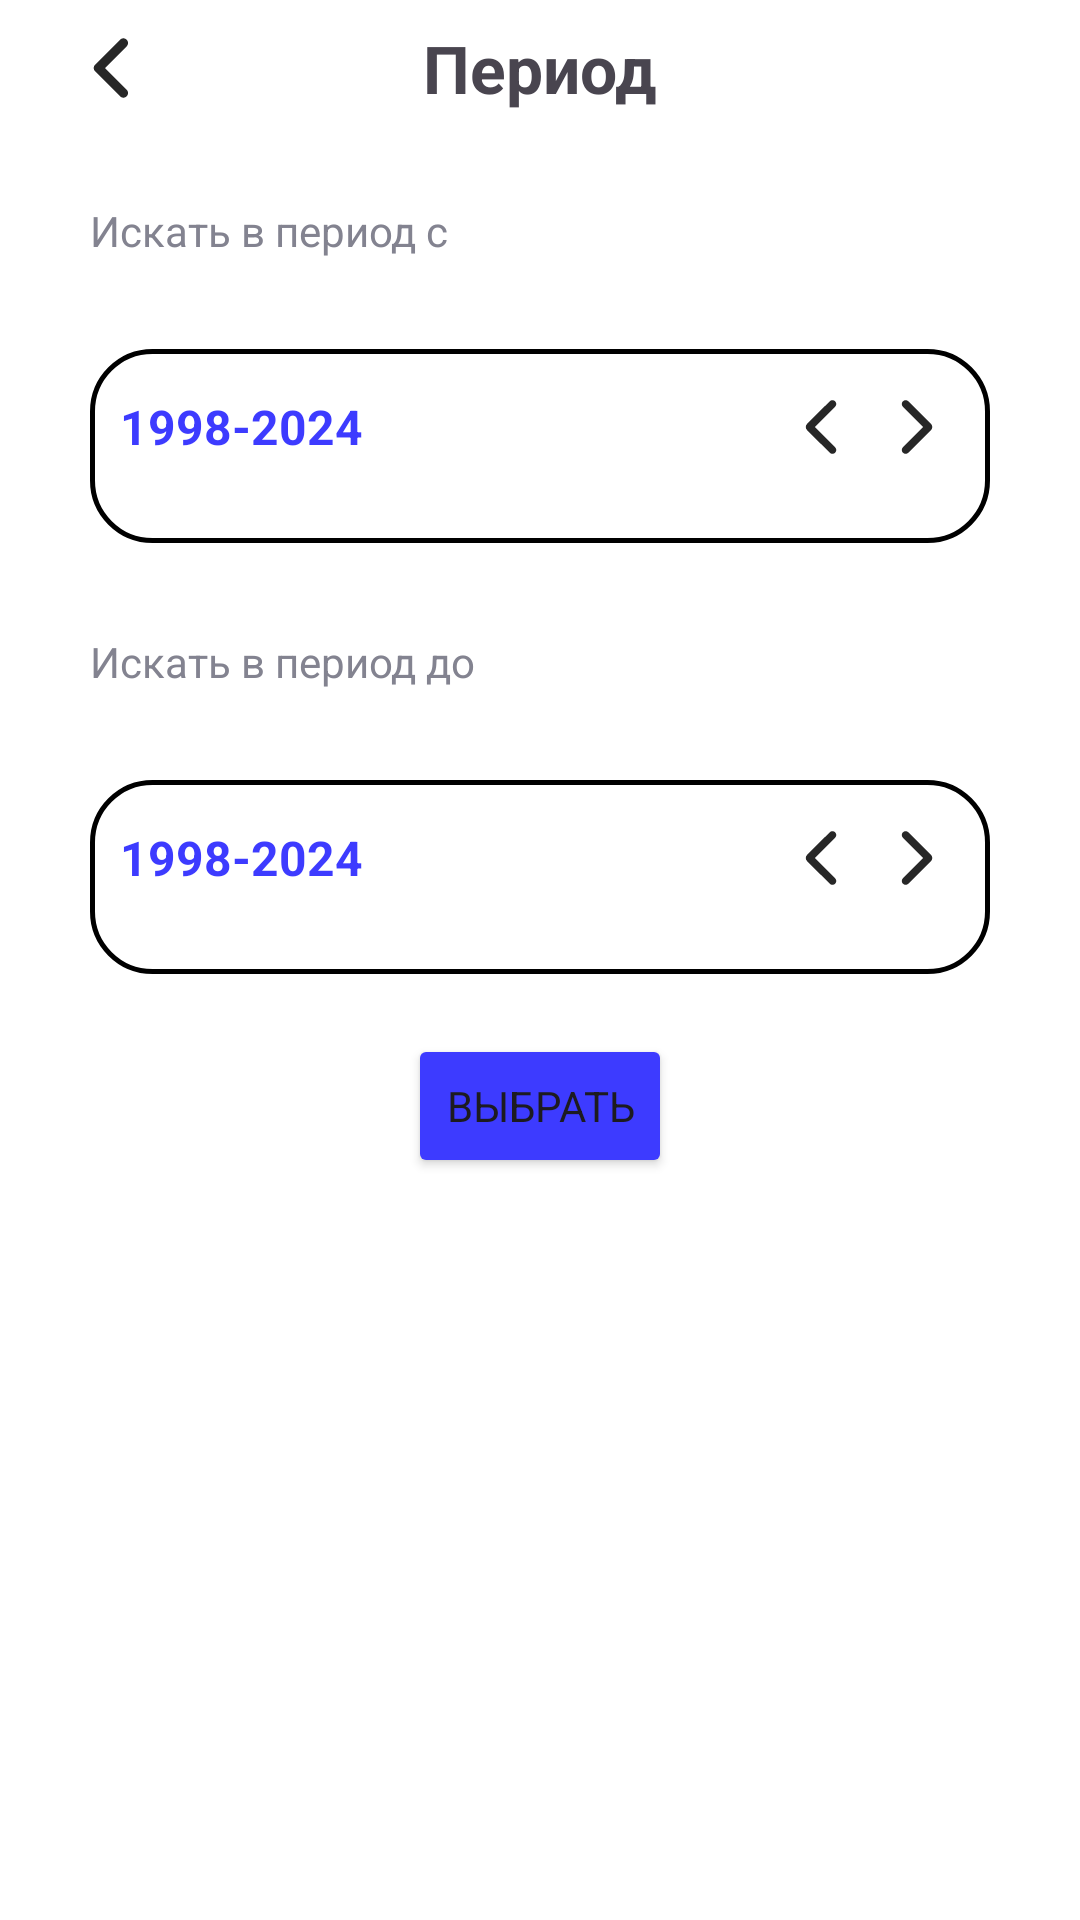

Screen size 1080px×1920px. Icon name, then its box in pixels as {"x1": x1, "y1": y1, "x2": x2, "y2": y2}:
caret left: {"x1": 93, "y1": 38, "x2": 128, "y2": 98}, {"x1": 805, "y1": 400, "x2": 837, "y2": 454}, {"x1": 805, "y1": 831, "x2": 837, "y2": 885}
caret right: {"x1": 901, "y1": 400, "x2": 933, "y2": 454}, {"x1": 901, "y1": 831, "x2": 933, "y2": 885}
